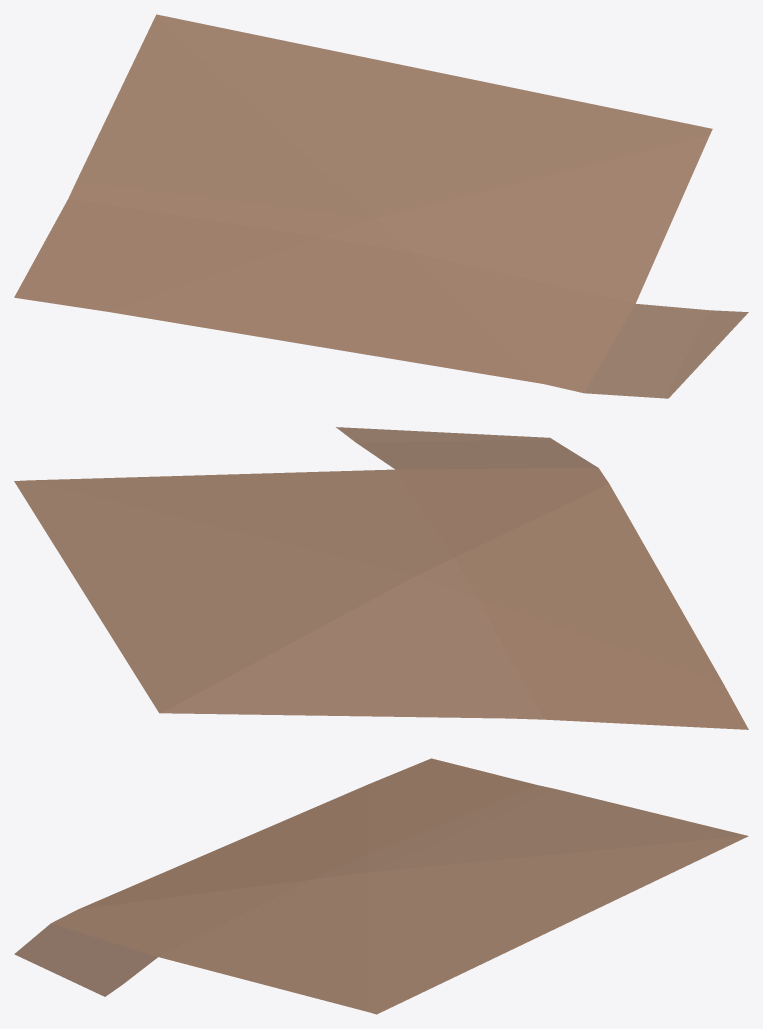
File: farm_22_27_soil.glb
3 views of the same model, one above another, from view 1: azimuth 30°, elevation 25°; view 2: azimuth 150°, elevation 25°; view 3: azimuth 270°, elevation 25° (orthographic). The views are drawn at different scales.
Parts seen in each view (by area): view 1: geometry_0; view 2: geometry_0; view 3: geometry_0.
Boxes of the visible parts, box(x1,y1,x2,y2) form: geometry_0: box(14, 14, 748, 398); geometry_0: box(14, 427, 748, 729); geometry_0: box(14, 758, 748, 1014).
Bounding box in the file's own units: 122 × 16.41 × 134.
